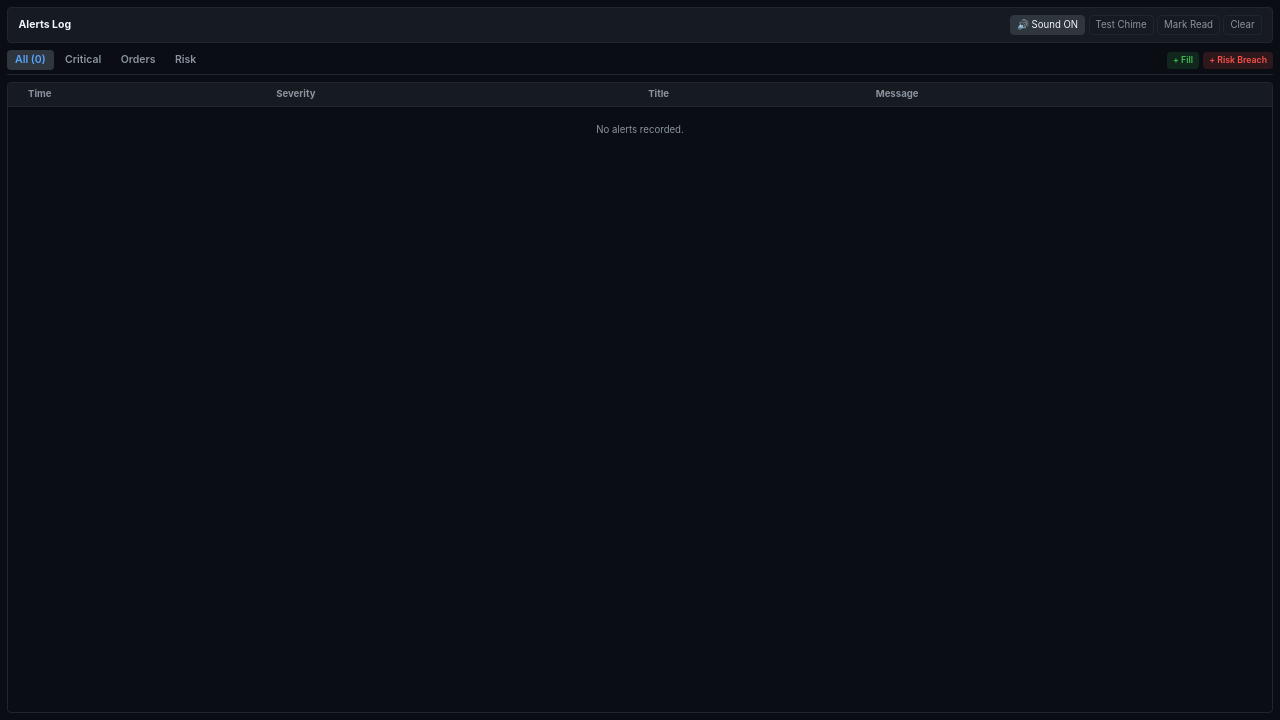
Test: AlertsLogWidget Component › renders alerts log controls and toggles audio sound setting
expect the text "Alerts Log" is shown: met, box [18,17,71,33]
Click the button with test id "toggle-sound-btn".
click(1048, 25)  # box [1010,15,1085,35]
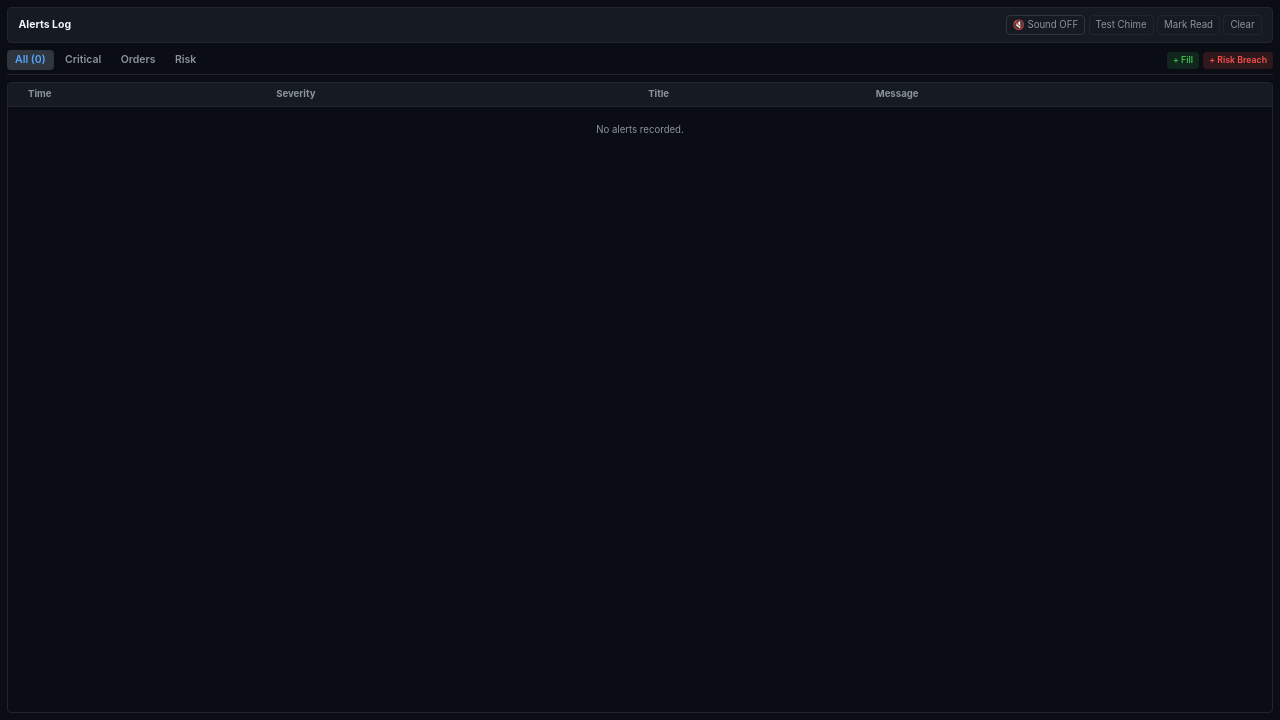
expect the button with test id "toggle-sound-btn" reads "🔇 Sound OFF": met, box [1006,15,1085,35]
